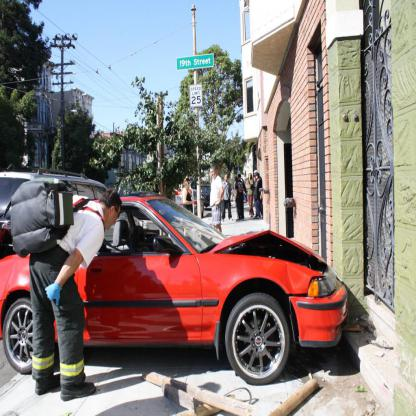face: (108, 204, 121, 230), (211, 170, 216, 178), (187, 182, 190, 189), (226, 176, 229, 182), (254, 179, 257, 183), (250, 175, 252, 180), (257, 176, 259, 180)
